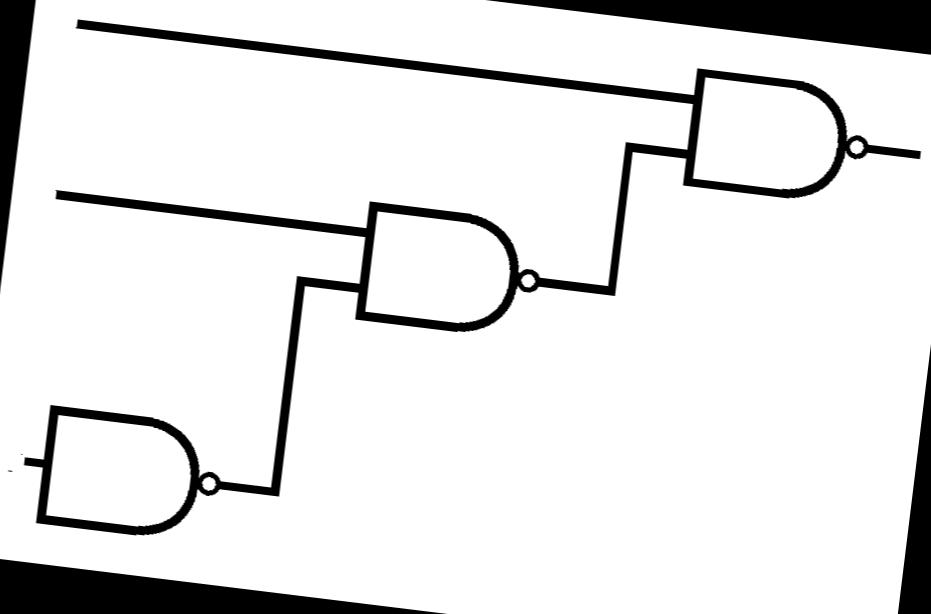nand: (332, 181, 555, 356), (664, 55, 886, 220), (25, 394, 239, 556)
